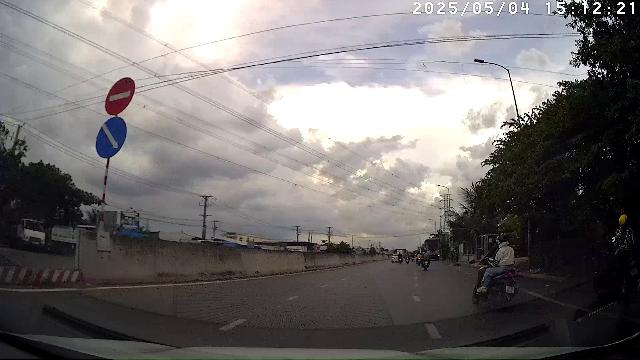102-cam-di-nguoc-chieu: (104, 76, 136, 115)
302a-huong-phai-di-vong-chuong-ngai-vat-1: (94, 115, 128, 159)
